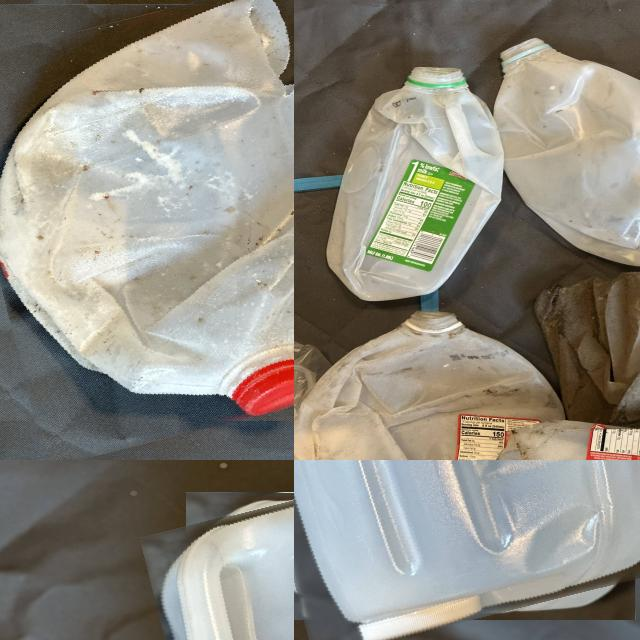milk-jug: (0, 0, 294, 444), (294, 460, 640, 639), (318, 64, 501, 304), (294, 307, 572, 460), (494, 39, 640, 263), (161, 475, 294, 640), (531, 270, 640, 430)
